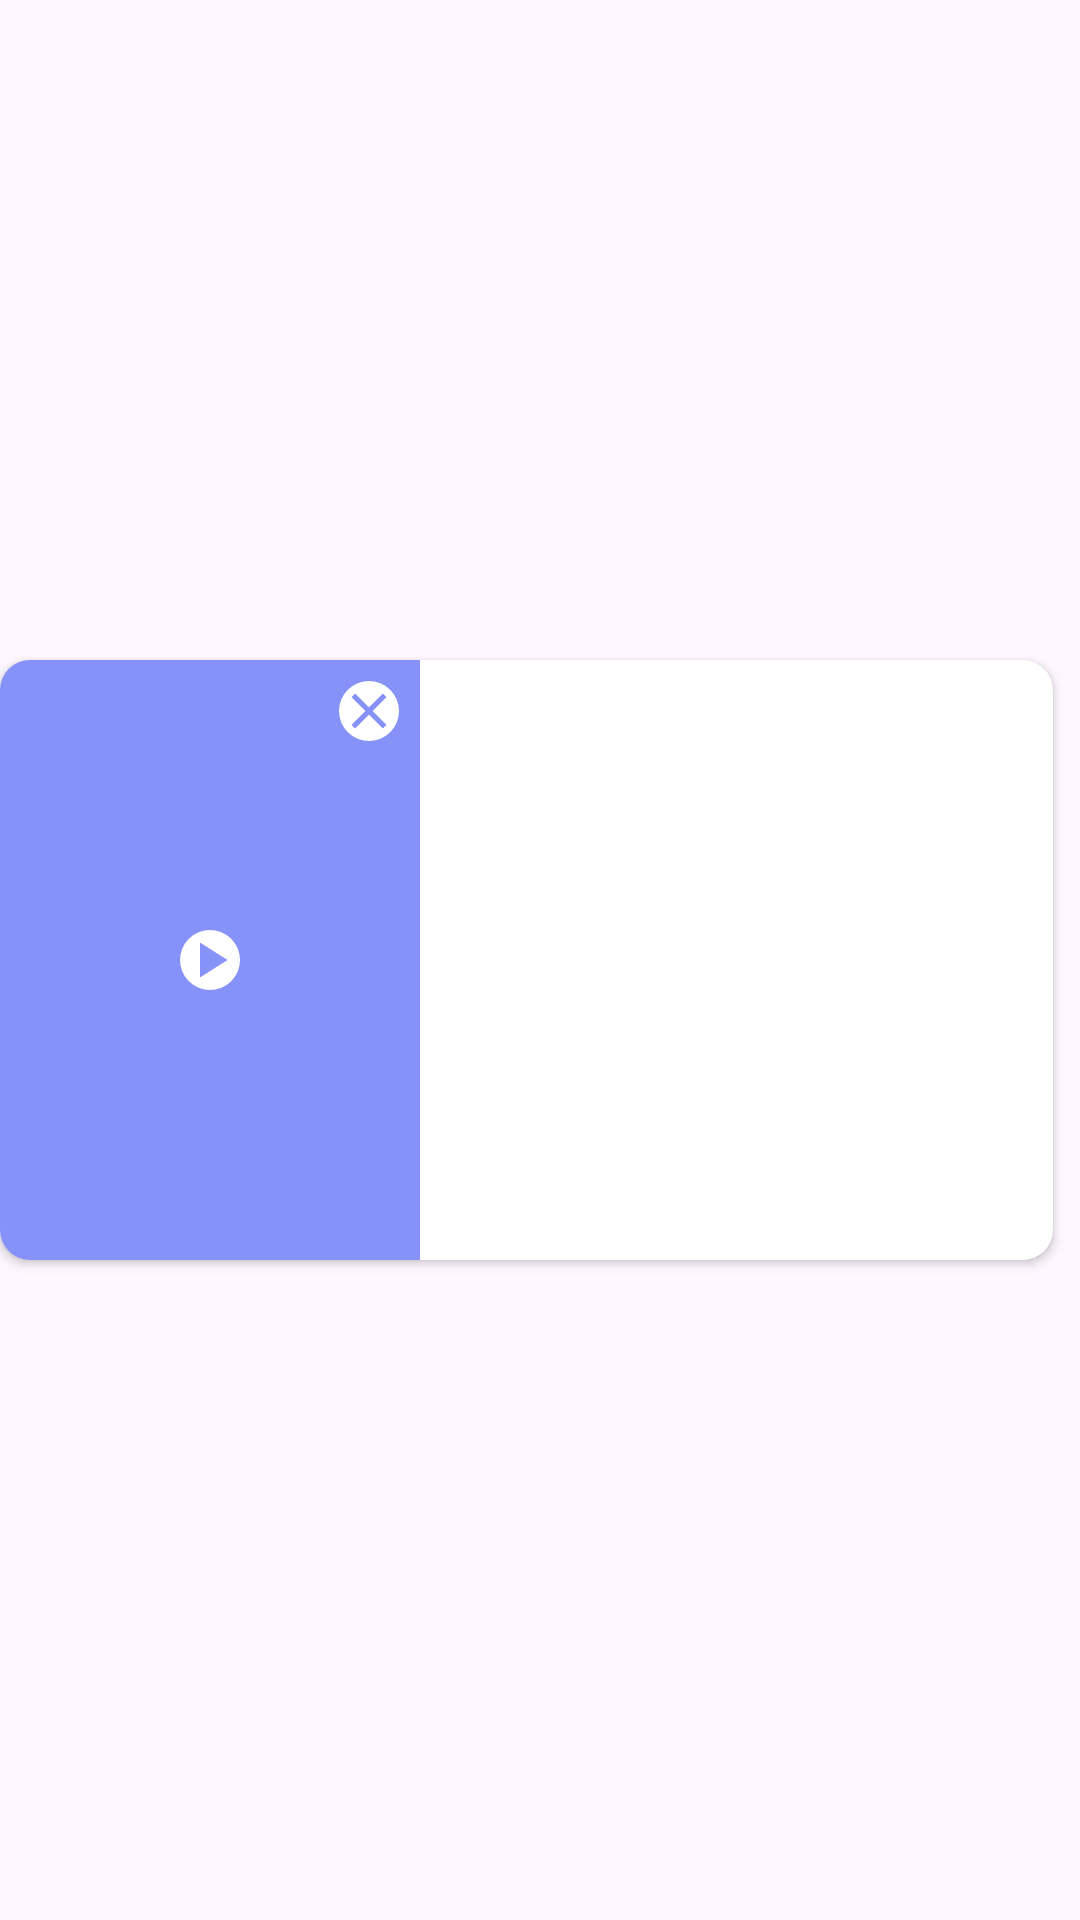

Where to tap for icons on this 1080 x 1920 app screen, as point (x, y):
clear: point (369, 711)
play arrow: point (210, 960)
